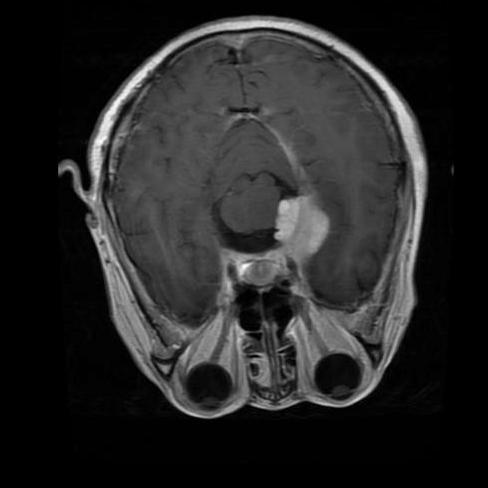Tumour-Meningioma: (260, 193, 354, 287)
